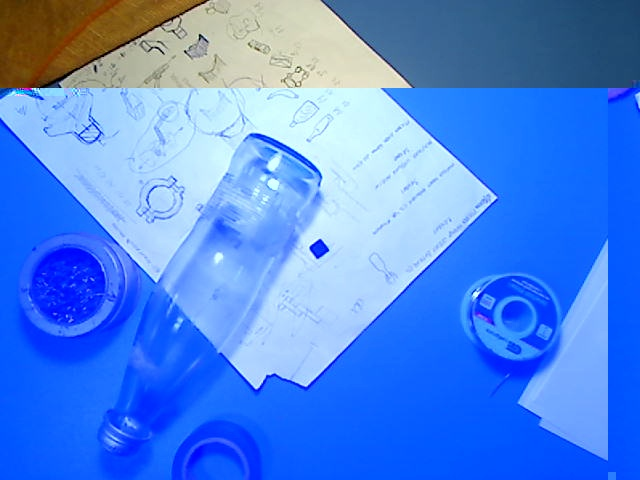bottle: (95, 132, 324, 459)
